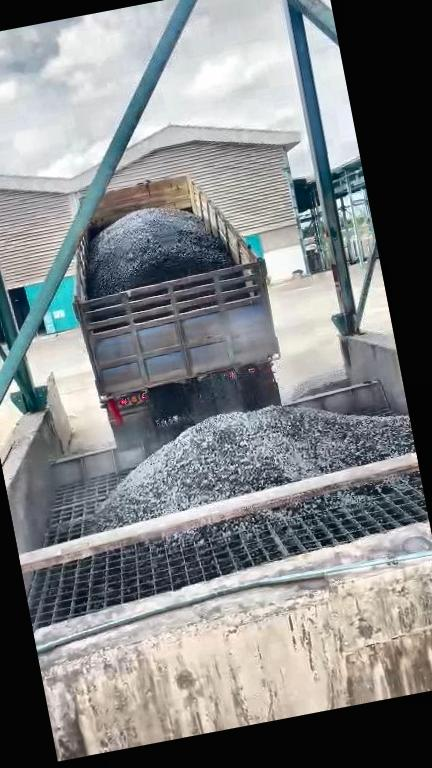gravel: (97, 406, 416, 529), (87, 207, 233, 297), (157, 486, 374, 545), (286, 368, 350, 401)
